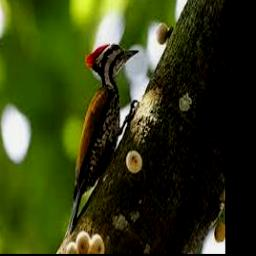Woodpecker: (66, 44, 139, 236)
